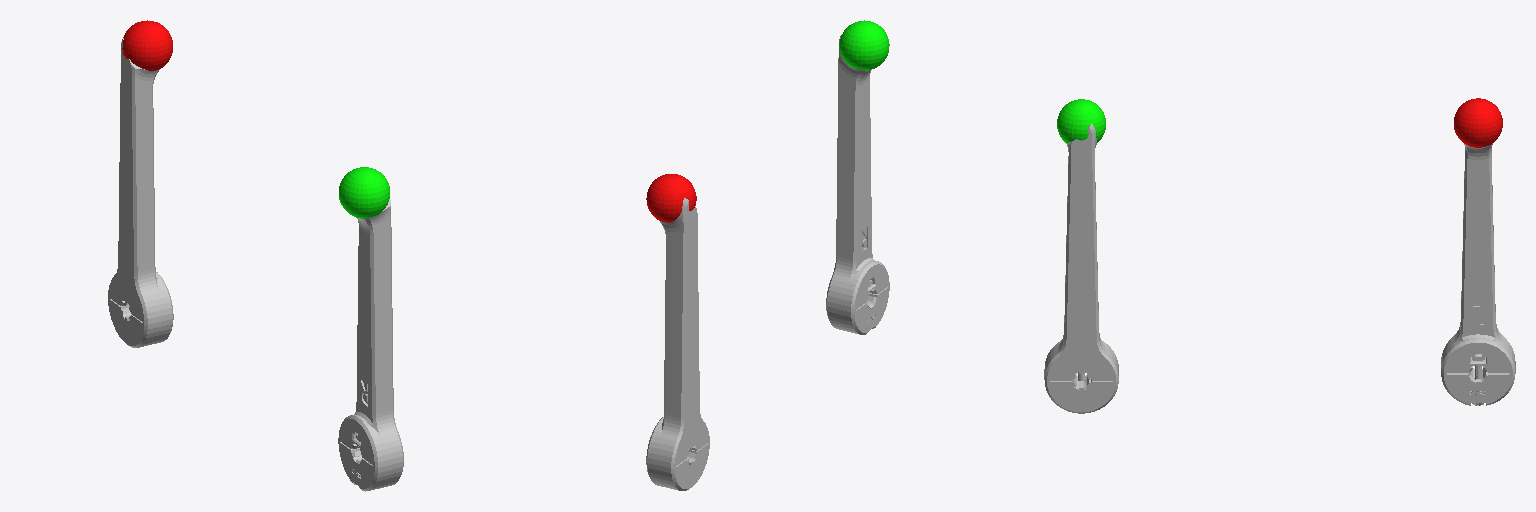
URDF robot description (pupper_arms_dual):
<?xml version="1.0"?>
<!-- created with Phobos 1.0.1 "Capricious Choutengan" -->
  <robot name="pupper_arms_dual">
    <link name="base">
      <inertial>
        <origin xyz="0 0 0" rpy="0 0 0"/>
        <mass value="0.200"/>
        <inertia ixx="1e-03" ixy="0" ixz="0" iyy="1e-03" iyz="0" izz="1e-03"/>
      </inertial>
      <visual name="Base">
        <origin xyz="0 0 -0.032" rpy="1.5708 0 1.5708"/>
        <geometry>
          <mesh filename="meshes/stand.obj" scale="0.001 0.001 0.001"/>
        </geometry>
        <material name="PupperMaterial"/>
      </visual>
    </link>

    <link name="leftFrontLeg">
      <inertial>
        <origin xyz="0.0139 0.0254 0" rpy="0 0 0"/>
        <mass value="0.106"/>
        <inertia ixx="2e-05" ixy="0" ixz="0" iyy="6e-05" iyz="0" izz="6e-05"/>
      </inertial>
      <visual name="Hip_L">
        <origin xyz="0 0 0" rpy="0 0 0"/>
        <geometry>
          <mesh filename="meshes/Hip_L.obj" scale="1.0 1.0 1.0"/>
        </geometry>
        <material name="PupperMaterial"/>
      </visual>
      <collision name="Hip L">
        <origin xyz="0.0235 0.0265 0" rpy="1.5708 0 -1.5708"/>
        <geometry>
          <cylinder radius="0.015" length="0.075"/>
        </geometry>
      </collision>
    </link>

    <link name="leftFrontLowerLeg">
      <inertial>
        <origin xyz="0.00558 -0.00075 -0.0658" rpy="0 0 0"/>
        <mass value="0.038"/>
        <inertia ixx="0.00018" ixy="0" ixz="0" iyy="0.00018" iyz="0" izz="2e-05"/>
      </inertial>
      <visual name="Lower_Leg_L">
        <origin xyz="0 0 0" rpy="0 0 0"/>
        <geometry>
          <mesh filename="meshes/Lower_Leg_L.obj" scale="1.0 1.0 1.0"/>
        </geometry>
        <material name="PupperMaterial"/>
      </visual>
      <collision name="Lower Leg L">
        <origin xyz="0.00699 0 -0.05223" rpy="0 0 0"/>
        <geometry>
          <box size="0.00951 0.012 0.10758"/>
        </geometry>
      </collision>
    </link>

    <link name="leftFrontToe">
      <inertial>
        <origin xyz="0 0 0" rpy="0 0 0"/>
        <mass value="0.0001"/>
        <inertia ixx="2e-05" ixy="0" ixz="0" iyy="2e-05" iyz="0" izz="2e-05"/>
      </inertial>
      <visual>
        <origin rpy="0.00000 -0.00000 0.00000" xyz="0.00 0.00000 0.000"/>
        <geometry>
          <sphere radius="0.01"/>
        </geometry>
        <material name="red">
          <color rgba="1.00000 .100000 .100000 1.00000" />
        </material>
		  </visual>
      <collision name="Sphere.003">
        <origin xyz="0 0 0" rpy="0 0 0"/>
        <geometry>
          <sphere radius="0.0095"/>
        </geometry>
      </collision>
    </link>

    <link name="leftFrontUpperLeg">
      <inertial>
        <origin xyz="0.0172 0 -0.061" rpy="0 0 0"/>
        <mass value="0.142"/>
        <inertia ixx="0.00014" ixy="0" ixz="0" iyy="0.00016" iyz="0" izz="3e-05"/>
      </inertial>
      <visual name="Upper_Leg_-_Pupper_2.1_v57">
        <origin xyz="0 0 0" rpy="0 0 0"/>
        <geometry>
          <mesh filename="meshes/Upper_Leg_-_Pupper_2.1_v57.obj" scale="1.0 1.0 1.0"/>
        </geometry>
        <material name="PupperMaterial"/>
      </visual>
      <collision name="Upper Leg - Pupper 2.1 v57">
        <origin xyz="0.0169 0 -0.08" rpy="1.5708 0 1.5708"/>
        <geometry>
          <cylinder radius="0.015" length="0.065"/>
        </geometry>
      </collision>
    </link>

    <link name="rightFrontLeg">
      <inertial>
        <origin xyz="0.0139 -0.0269 0" rpy="0 0 0"/>
        <mass value="0.106"/>
        <inertia ixx="2e-05" ixy="0" ixz="0" iyy="6e-05" iyz="0" izz="6e-05"/>
      </inertial>
      <visual name="Hip_R">
        <origin xyz="0 0 0" rpy="0 0 0"/>
        <geometry>
          <mesh filename="meshes/Hip_R.obj" scale="1.0 1.0 1.0"/>
        </geometry>
        <material name="PupperMaterial"/>
      </visual>
      <collision name="Hip R">
        <origin xyz="0.0235 -0.028 0" rpy="1.5708 0 -1.5708"/>
        <geometry>
          <cylinder radius="0.015" length="0.075"/>
        </geometry>
      </collision>
    </link>

    <link name="rightFrontLowerLeg">
      <inertial>
        <origin xyz="-0.00588 -0.00075 -0.0658" rpy="0 0 0"/>
        <mass value="0.038"/>
        <inertia ixx="0.00018" ixy="0" ixz="0" iyy="0.00018" iyz="0" izz="2e-05"/>
      </inertial>
      <visual name="Lower_Leg_R">
        <origin xyz="0 0 0" rpy="0 0 0"/>
        <geometry>
          <mesh filename="meshes/Lower_Leg_R.obj" scale="1.0 1.0 1.0"/>
        </geometry>
        <material name="PupperMaterial"/>
      </visual>
      <collision name="Lower Leg R">
        <origin xyz="-0.00698 0 -0.05223" rpy="0 0 0"/>
        <geometry>
          <box size="0.00953 0.012 0.10758"/>
        </geometry>
      </collision>
    </link>

    <link name="rightFrontToe">
      <inertial>
        <origin xyz="0 0 0" rpy="0 0 0"/>
        <mass value="0.0001"/>
        <inertia ixx="2e-05" ixy="0" ixz="0" iyy="2e-05" iyz="0" izz="2e-05"/>
      </inertial>
      <visual>
        <origin rpy="0.00000 -0.00000 0.00000" xyz="0.00 0.00000 0.000"/>
        <geometry>
          <sphere radius="0.01"/>
        </geometry>
          <material name="green">
          <color rgba=".100000 1.00000 .100000 1.00000" />
        </material>
		  </visual>
      <collision name="Sphere.002">
        <origin xyz="0 0 0" rpy="0 0 0"/>
        <geometry>
          <sphere radius="0.0095"/>
        </geometry>
      </collision>
    </link>

    <link name="rightFrontUpperLeg">
      <inertial>
        <origin xyz="0.0172 0 -0.061" rpy="0 0 0"/>
        <mass value="0.142"/>
        <inertia ixx="0.00014" ixy="0" ixz="0" iyy="0.00016" iyz="0" izz="3e-05"/>
      </inertial>
      <visual name="Upper_Leg_-_Pupper_2.1_v57">
        <origin xyz="0 0 0" rpy="0 0 0"/>
        <geometry>
          <mesh filename="meshes/Upper_Leg_-_Pupper_2.1_v57.obj" scale="1.0 1.0 1.0"/>
        </geometry>
        <material name="PupperMaterial"/>
      </visual>
      <collision name="Upper Leg - Pupper 2.1 v57">
        <origin xyz="0.0169 0 -0.08" rpy="1.5708 0 -1.5708"/>
        <geometry>
          <cylinder radius="0.015" length="0.065"/>
        </geometry>
      </collision>
    </link>

    <joint name="leftFrontLowerLegMotor" type="revolute">
      <origin xyz="-0.004 0 -0.08" rpy="0 0 3.14159"/>
      <parent link="leftFrontUpperLeg"/>
      <child link="leftFrontLowerLeg"/>
      <axis xyz="-1.0 0 0"/>
      <limit lower="-6" upper="6" effort="0" velocity="0"/>
    </joint>

    <joint name="leftFrontToe" type="floating">
      <origin xyz="0.002 0 -0.11" rpy="0 0 -3.14159"/>
      <parent link="leftFrontLowerLeg"/>
      <child link="leftFrontToe"/>
    </joint>

    <joint name="leftFrontUpperLegMotor" type="revolute">
      <origin xyz="0.0395 0.0265 0" rpy="1.5708 0 0"/>
      <parent link="leftFrontLeg"/>
      <child link="leftFrontUpperLeg"/>
      <axis xyz="1.0 0 0"/>
      <limit lower="-0.8" upper="6" effort="0" velocity="0"/>
    </joint>

    <joint name="leftBaseMotor" type="revolute">
      <origin xyz="0 0 -0.025" rpy="1.5708 0 0"/>
      <parent link="base"/>
      <child link="leftFrontLeg"/>
      <axis xyz="0 -1.0 0"/>
      <limit lower="-6" upper="6" effort="0" velocity="0"/>
    </joint>

    <joint name="rightFrontLowerLegMotor" type="revolute">
      <origin xyz="-0.004 0 -0.08" rpy="0 0 3.14159"/>
      <parent link="rightFrontUpperLeg"/>
      <child link="rightFrontLowerLeg"/>
      <axis xyz="-1.0 0 0"/>
      <limit lower="-2.87979" upper="2.87979" effort="0" velocity="0"/>
    </joint>

    <joint name="rightFrontToe" type="fixed">
      <origin xyz="-0.002 0 -0.11" rpy="0 0 3.14159"/>
      <parent link="rightFrontLowerLeg"/>
      <child link="rightFrontToe"/>
    </joint>

    <joint name="rightFrontUpperLegMotor" type="revolute">
      <origin xyz="0.0395 -0.028 0" rpy="-1.5708 0 0"/>
      <parent link="rightFrontLeg"/>
      <child link="rightFrontUpperLeg"/>
      <axis xyz="-1.0 0 0"/>
      <limit lower="-1.309" upper="4.45059" effort="0" velocity="0"/>
    </joint>

    <joint name="rightBaseMotor" type="revolute">
      <origin xyz="0 -0.16 -0.025" rpy="-1.5708 0 0"/>
      <parent link="base"/>
      <child link="rightFrontLeg"/>
      <axis xyz="0 1.0 0"/>
      <limit lower="-6" upper="6" effort="0" velocity="0"/>
    </joint>

    <material name="PupperMaterial">
      <color rgba="0.8 0.8 0.8 1.0"/>
    </material>

  </robot>

--- Facts derived from the render (not from the file) ---
3 views of the same robot in one strip: view 1: azimuth 30°, elevation 25°; view 2: azimuth 150°, elevation 25°; view 3: azimuth 270°, elevation 25° (orthographic).
Robot: pupper_arms_dual — 9 links, 8 joints (6 revolute, 1 fixed, 1 floating); root link base; default pose: all joints at 0.
Links seen in each view (by area): view 1: leftFrontLowerLeg, rightFrontLowerLeg, rightFrontToe, leftFrontToe; view 2: leftFrontLowerLeg, rightFrontLowerLeg, rightFrontToe, leftFrontToe; view 3: rightFrontLowerLeg, leftFrontLowerLeg, leftFrontToe, rightFrontToe.
Boxes of the visible links, x1,y1,x2,y2 form: leftFrontLowerLeg: (108, 38, 173, 347); rightFrontLowerLeg: (338, 199, 403, 491); rightFrontToe: (339, 167, 389, 218); leftFrontToe: (122, 20, 172, 70); leftFrontLowerLeg: (646, 198, 709, 490); rightFrontLowerLeg: (826, 36, 889, 334); rightFrontToe: (839, 20, 889, 70); leftFrontToe: (646, 174, 696, 222); rightFrontLowerLeg: (1044, 124, 1118, 413); leftFrontLowerLeg: (1441, 143, 1515, 405); leftFrontToe: (1454, 98, 1502, 147); rightFrontToe: (1057, 99, 1105, 142).
Size in the robot's own frame: 0.024 by 0.19 by 0.1365 metres.
2 mesh visuals loaded from 6 distinct referenced files (2 OBJ); not drawn: 5 (reference not matched to a file when rendering).